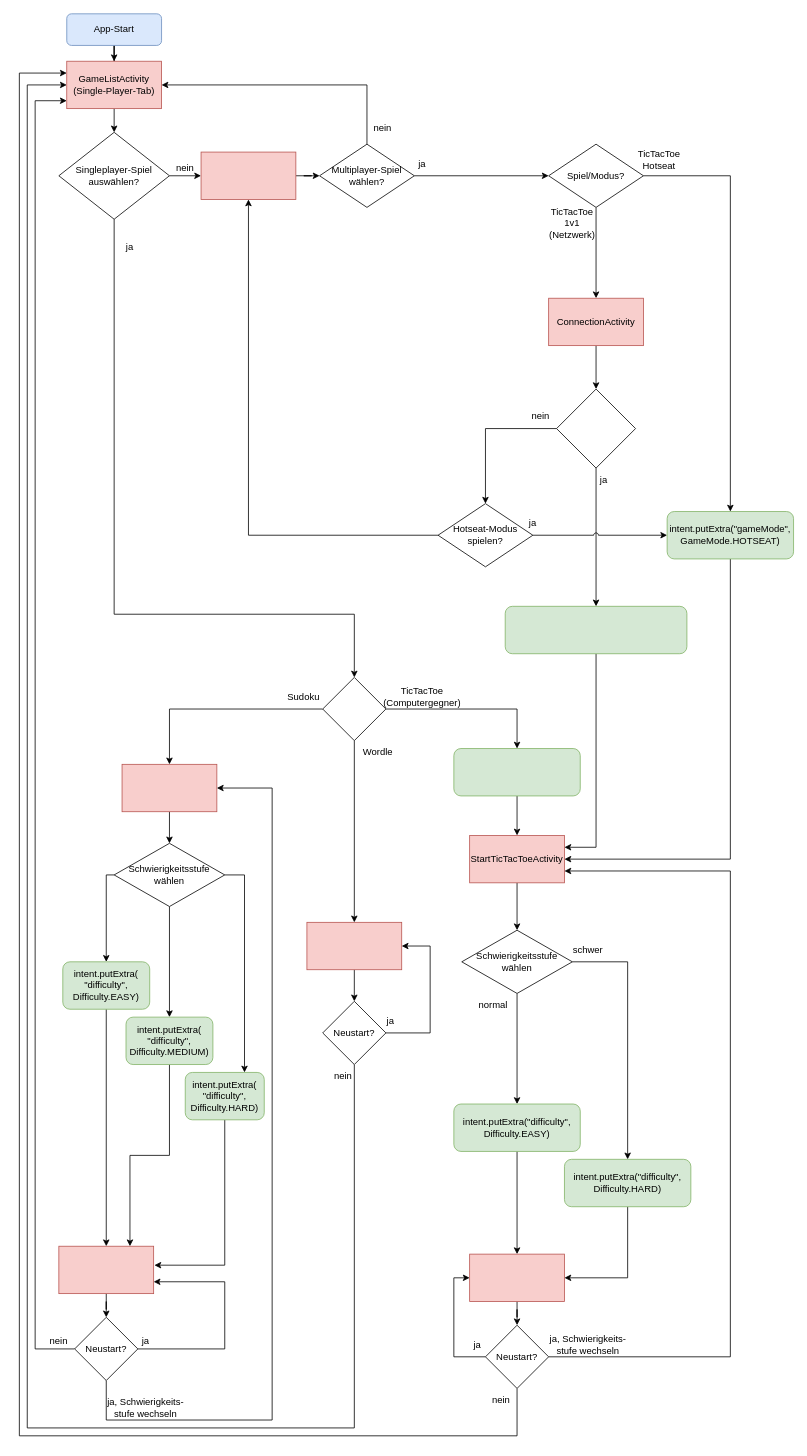
This 807x1456 diagram has some shape labels left out. Each missing label, with the centre of its shape:
GameListActivity (Multiplayer-Tab): point (248, 175)
intent.putExtra("gameMode", GameMode.NETWORK_MULTIPLAYER): point (595, 630)
intent.putExtra("gameMode", GameMode.SINGLEPLAYER): point (516, 772)
Spiel?: point (354, 709)
StartSudokuActivity: point (169, 788)
SudokuActivity: point (106, 1269)
TicTacToeAcitivity: point (516, 1277)
Verbindung erfolgreich?: point (596, 428)
WordleActivity: point (354, 946)
